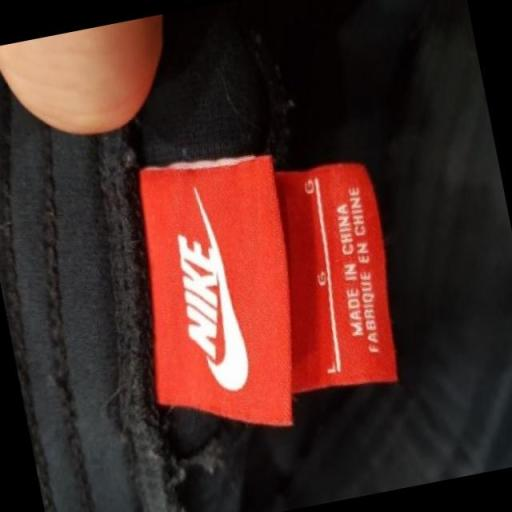Nike: (188, 222, 255, 403), (164, 231, 234, 365)
